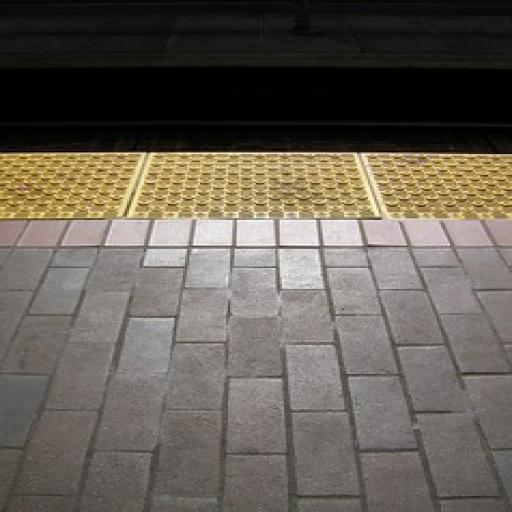platform_edge: (0, 115, 512, 269)
